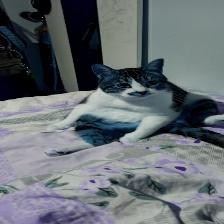kedo: (45, 58, 224, 157)
